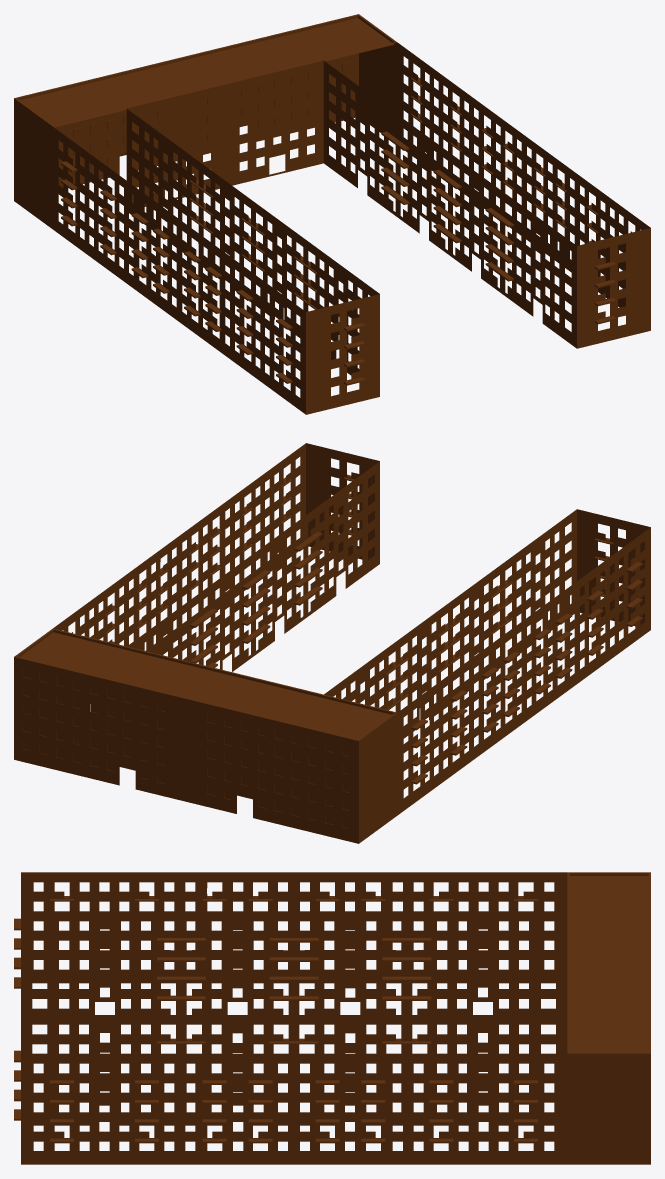
The model's file is n-obras Khrushchyovka.fbx.
The picture shows the model from 3 angles, top to bottom: view 1: azimuth 30°, elevation 25°; view 2: azimuth 150°, elevation 25°; view 3: azimuth 270°, elevation 25°; orthographic projection. The views are drawn at different scales.
Visible parts, largest first — view 1: Khrushchyovka.007, Khrushchyovka.010; view 2: Khrushchyovka.007, Khrushchyovka.010; view 3: Khrushchyovka.007, Khrushchyovka.010.
Part boxes in pixels (x1,y1,x2,y2): Khrushchyovka.007: [14, 42, 650, 414]; Khrushchyovka.010: [14, 14, 397, 127]; Khrushchyovka.007: [14, 443, 650, 843]; Khrushchyovka.010: [14, 628, 397, 740]; Khrushchyovka.007: [14, 872, 650, 1164]; Khrushchyovka.010: [567, 872, 650, 1053].
Bounding box in the file's own units: 5776 × 1595 × 8302.
